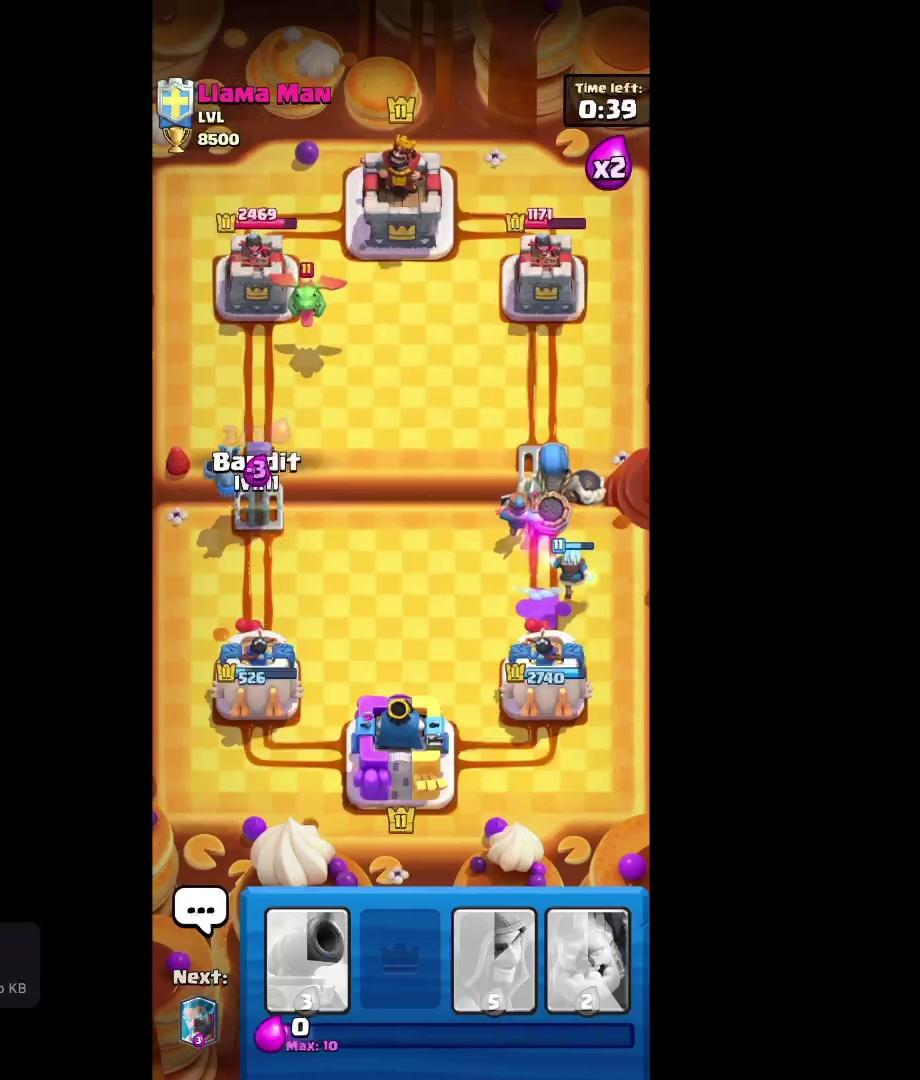Baby Dragon: (267, 259, 352, 330)
